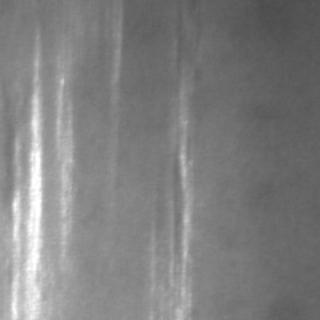scratches: (6, 47, 42, 315), (50, 69, 80, 257), (171, 98, 195, 310)
